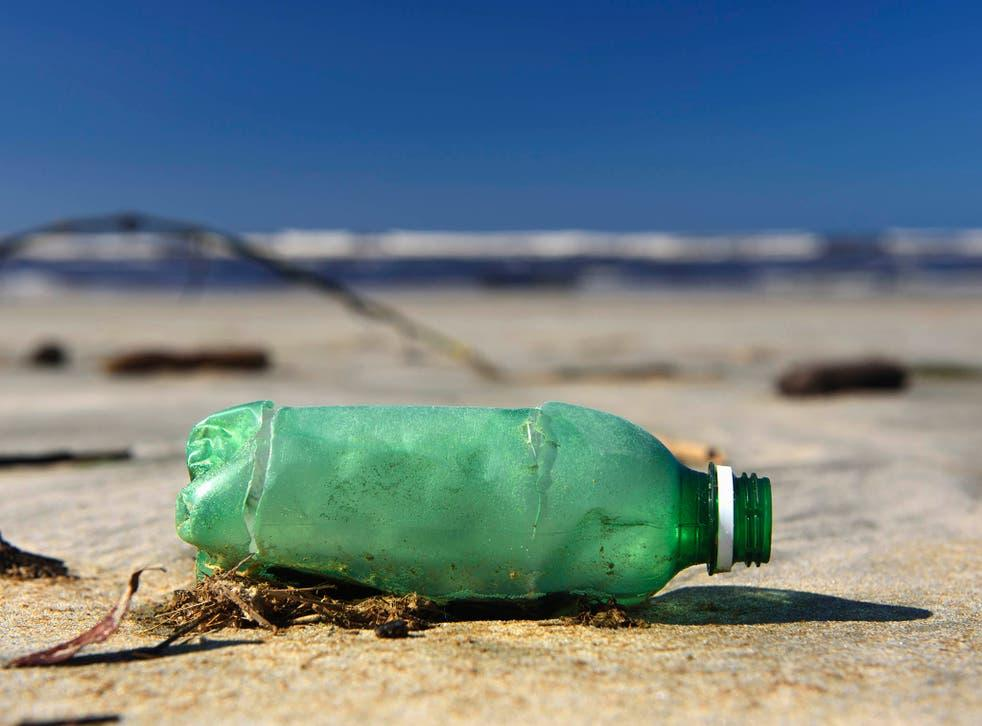bottle: (177, 344, 794, 676)
